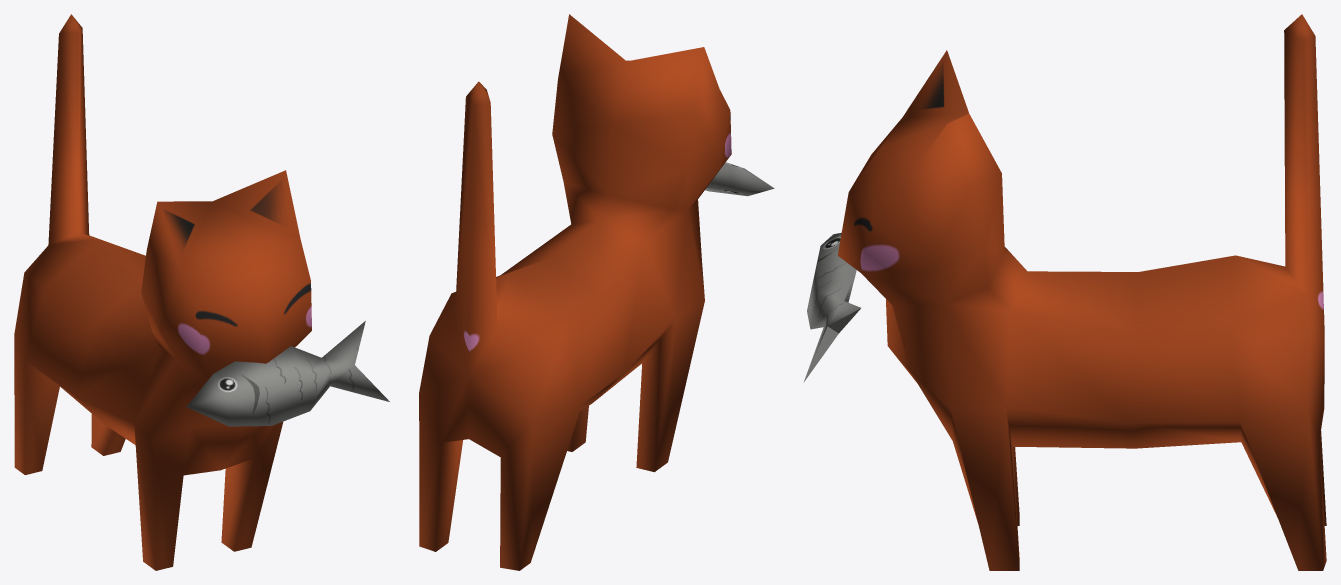
Rendered from Cat.FBX.
3 views of the same model, side by side, from view 1: azimuth 30°, elevation 25°; view 2: azimuth 150°, elevation 25°; view 3: azimuth 270°, elevation 25° (orthographic). The views are drawn at different scales.
Visible parts, largest first — view 1: Cat, Fish; view 2: Cat, Fish; view 3: Cat, Fish.
Boxes of the visible parts, x1,y1,x2,y2 form: Cat: (14,14,311,570); Fish: (186,321,389,426); Cat: (419,14,731,570); Fish: (705,162,774,196); Cat: (837,14,1326,570); Fish: (803,233,860,382).
Bounding box in the file's own units: 7.22 × 16.16 × 14.48.
